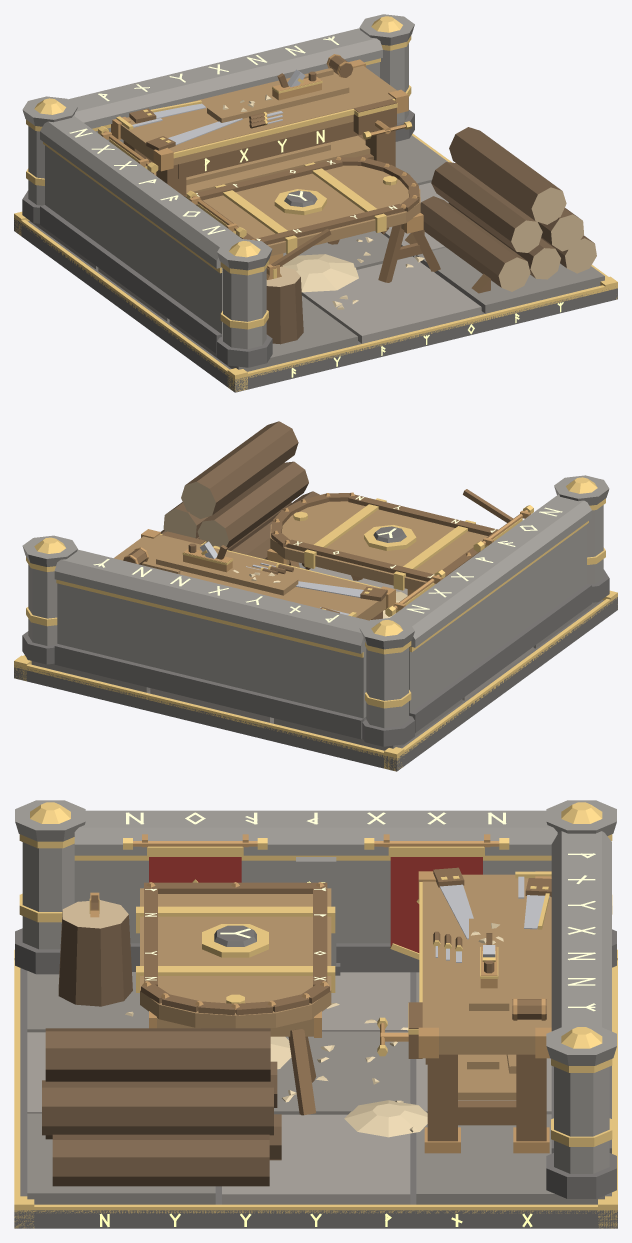
File: carpenter-t3.glb
3 renders of one model, top to bottom at view 1: azimuth 30°, elevation 25°; view 2: azimuth 150°, elevation 25°; view 3: azimuth 270°, elevation 25°, orthographic. The views are drawn at different scales.
Visible parts, largest first — view 1: floor, wall_left, workbench, great_door, wall_back, pillar_sw, log_6, log_1, log_4, pillar_ne, pillar_nw, chopping_stump (+12 smaller); view 2: wall_back, wall_left, floor, great_door, pillar_nw, log_6, workbench, pillar_ne, log_4, pillar_sw, plank, log_1 (+7 smaller); view 3: floor, wall_left, great_door, workbench, log_5, log_6, wall_back, log_3, pillar_ne, pillar_sw, chopping_stump, banner_n (+14 smaller).
Boxes of the visible parts, left/top/right/bottom form: floor: left=14, top=133, right=617, bottom=392; wall_left: left=40, top=115, right=241, bottom=353; workbench: left=111, top=59, right=408, bottom=195; great_door: left=184, top=156, right=420, bottom=256; wall_back: left=68, top=28, right=382, bottom=142; pillar_sw: left=217, top=239, right=272, bottom=367; log_6: left=449, top=127, right=566, bottom=224; log_1: left=420, top=196, right=530, bottom=291; log_4: left=431, top=162, right=542, bottom=252; pillar_ne: left=359, top=14, right=414, bottom=141; pillar_nw: left=22, top=96, right=77, bottom=223; chopping_stump: left=266, top=266, right=303, bottom=344; wall_back: left=54, top=549, right=368, bottom=739; wall_left: left=390, top=494, right=591, bottom=732; floor: left=14, top=562, right=617, bottom=771; great_door: left=270, top=492, right=497, bottom=590; pillar_nw: left=359, top=618, right=414, bottom=746; log_6: left=181, top=421, right=298, bottom=518; workbench: left=114, top=529, right=395, bottom=620; pillar_ne: left=22, top=535, right=77, bottom=664; log_4: left=197, top=461, right=308, bottom=548; pillar_sw: left=554, top=475, right=609, bottom=602; plank: left=156, top=548, right=298, bottom=595; log_1: left=228, top=491, right=319, bottom=559; floor: left=14, top=949, right=617, bottom=1228; wall_left: left=74, top=810, right=557, bottom=975; great_door: left=136, top=882, right=335, bottom=1028; workbench: left=418, top=871, right=551, bottom=1153; log_5: left=42, top=1080, right=273, bottom=1135; log_6: left=45, top=1028, right=270, bottom=1081; wall_back: left=551, top=831, right=611, bottom=1153; log_3: left=52, top=1134, right=269, bottom=1186; pillar_ne: left=546, top=1025, right=616, bottom=1198; pillar_sw: left=15, top=800, right=85, bottom=974; chopping_stump: left=58, top=900, right=132, bottom=1006; banner_n: left=388, top=846, right=484, bottom=959.
Size of what is drawn, in the model's own units: 3 by 1.03 by 3.
